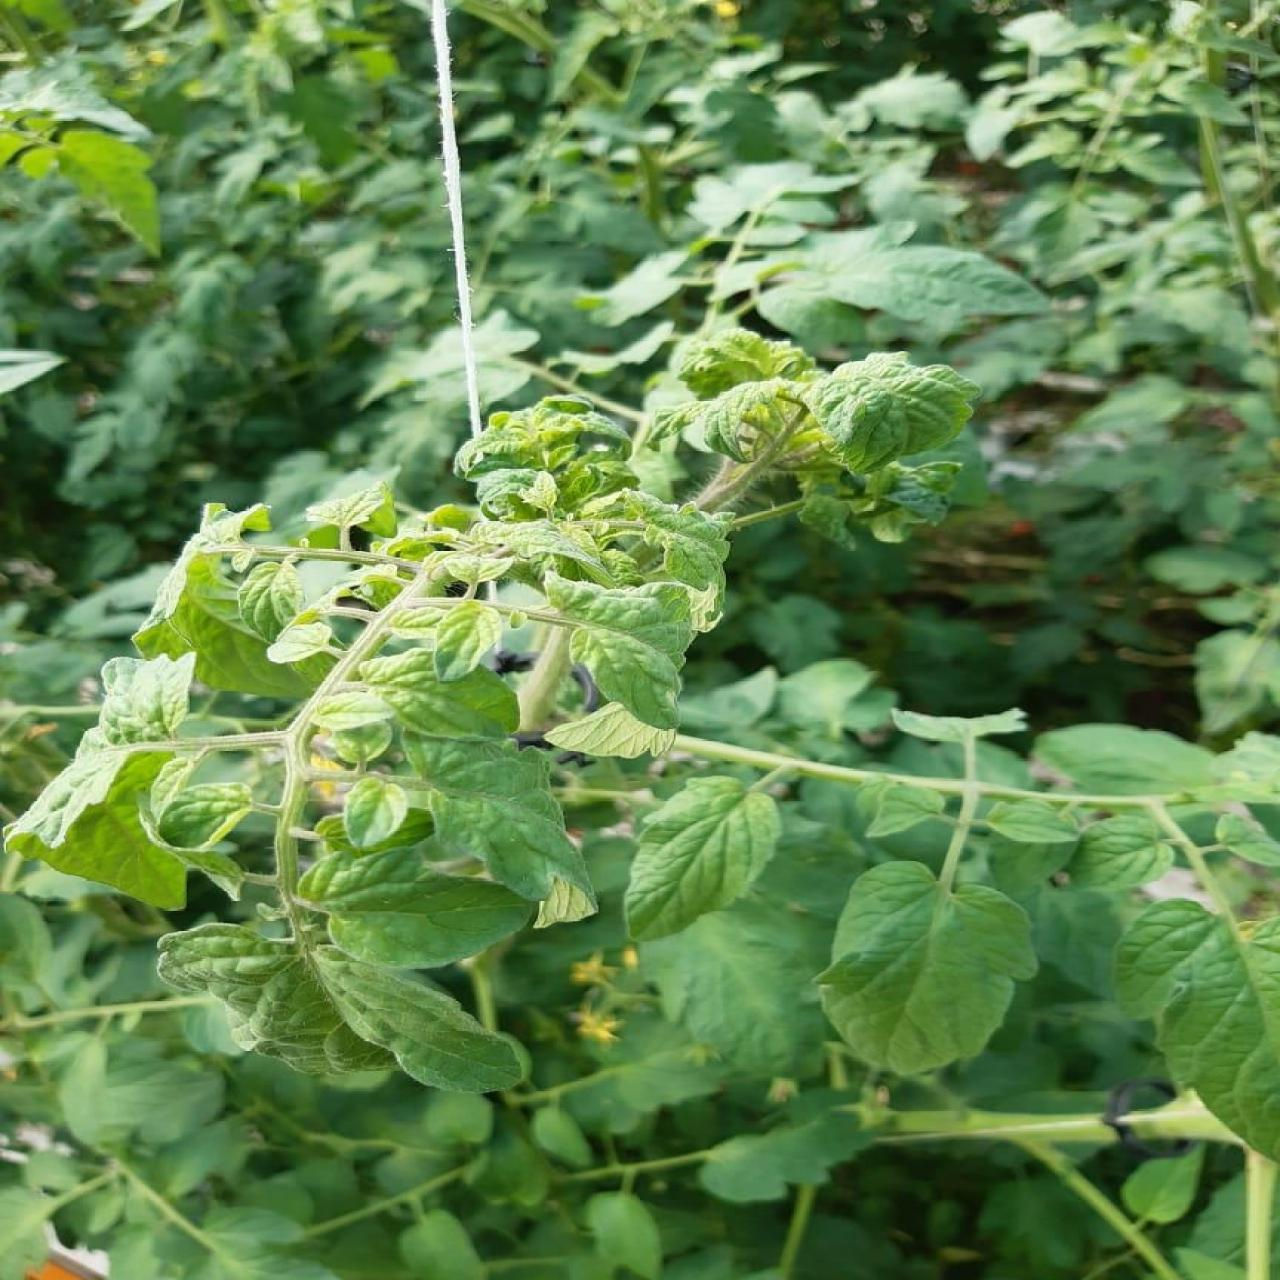T_L_H: (816, 862, 1039, 1075), (1117, 901, 1280, 1160), (311, 948, 518, 1094), (622, 779, 782, 942), (806, 350, 980, 474)
T_L_R: (159, 925, 394, 1076), (297, 850, 531, 971), (361, 649, 518, 738), (574, 629, 681, 729), (161, 784, 254, 849), (434, 601, 504, 682), (343, 779, 408, 849)
